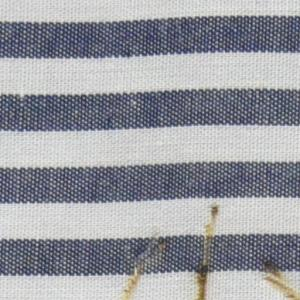Oil Stain: (119, 200, 300, 300)
